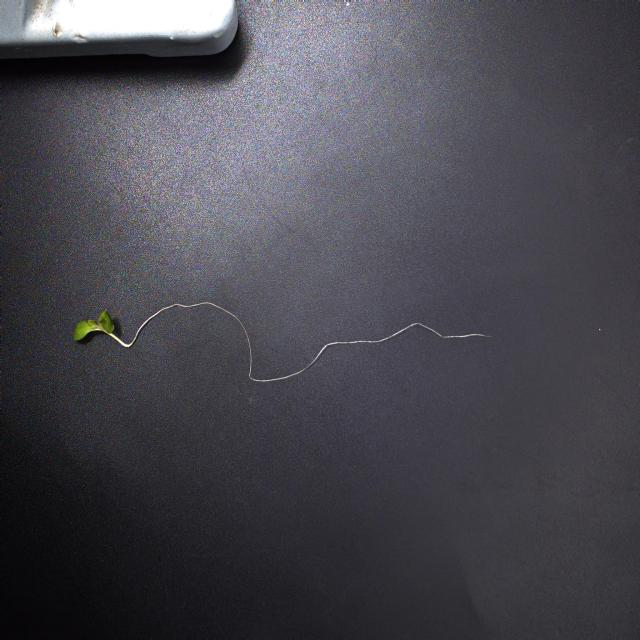leaf: (74, 320, 99, 340), (98, 310, 114, 333)
root: (130, 300, 477, 381), (471, 330, 494, 340)
steb: (103, 329, 130, 351)
